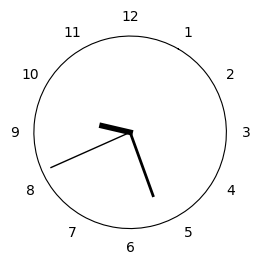12: (122, 9, 139, 23)
circle: (33, 35, 228, 230)
hours: (98, 122, 133, 135)
minutes: (131, 136, 154, 197)
seconds: (49, 134, 124, 168)
